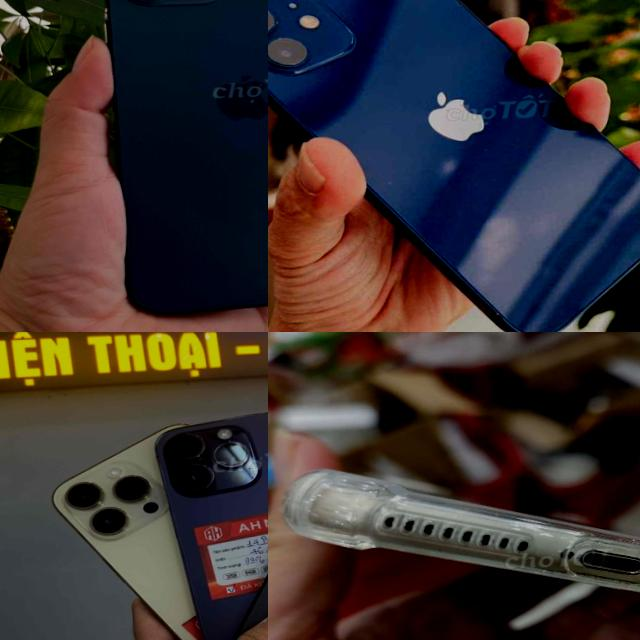gen_12_13: (268, 0, 640, 332), (95, 0, 268, 320)
gen_14: (0, 472, 268, 640)
gen_7_8: (279, 442, 640, 640)
